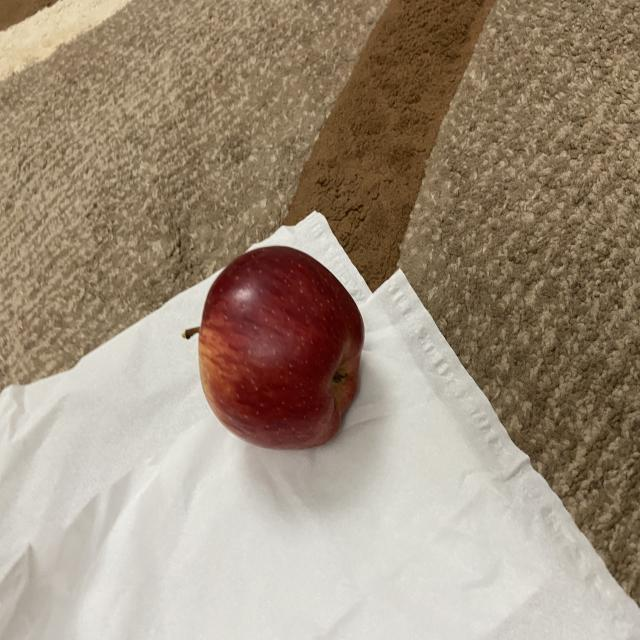apple: (173, 240, 374, 456)
